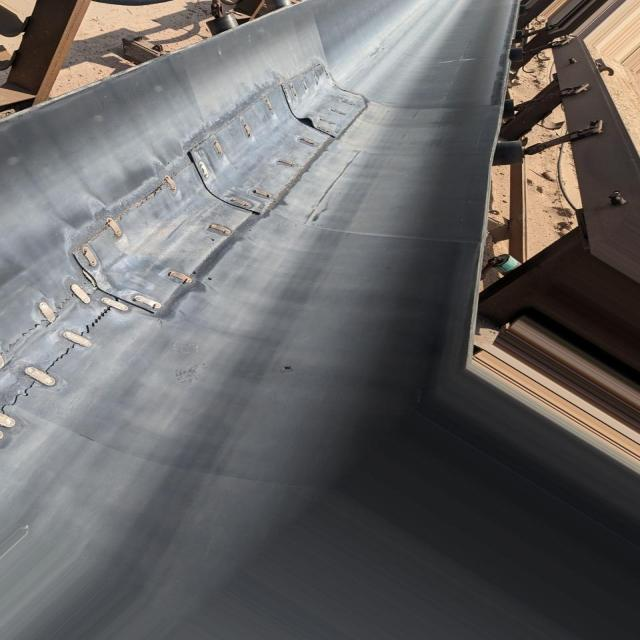patch work: (0, 62, 367, 438)
